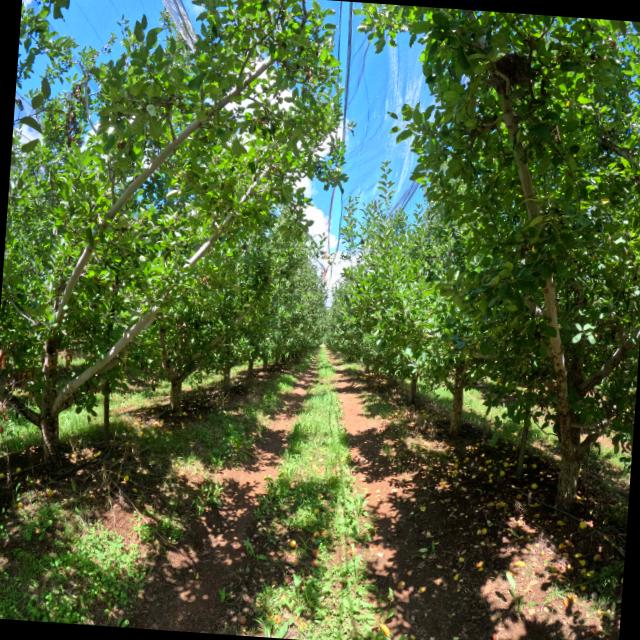-FireBlight-: (56, 350, 76, 370), (0, 398, 9, 436), (0, 345, 7, 388)
